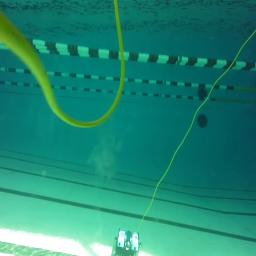front: (114, 230, 142, 256)
